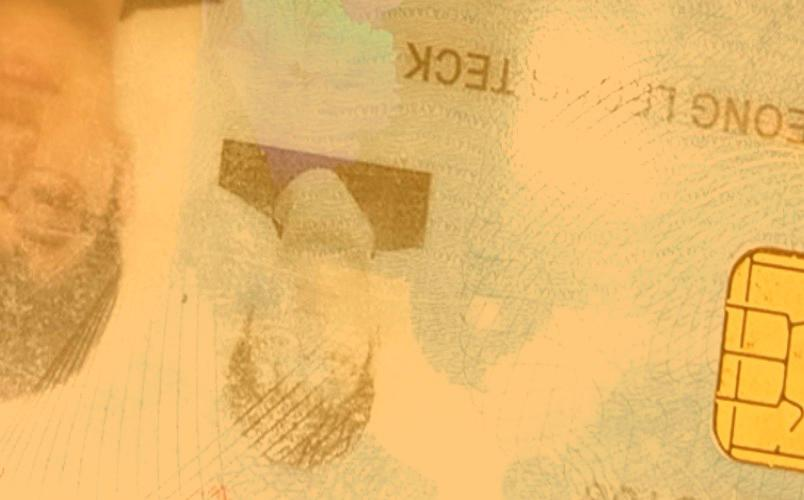hologramB: (220, 2, 397, 139)
